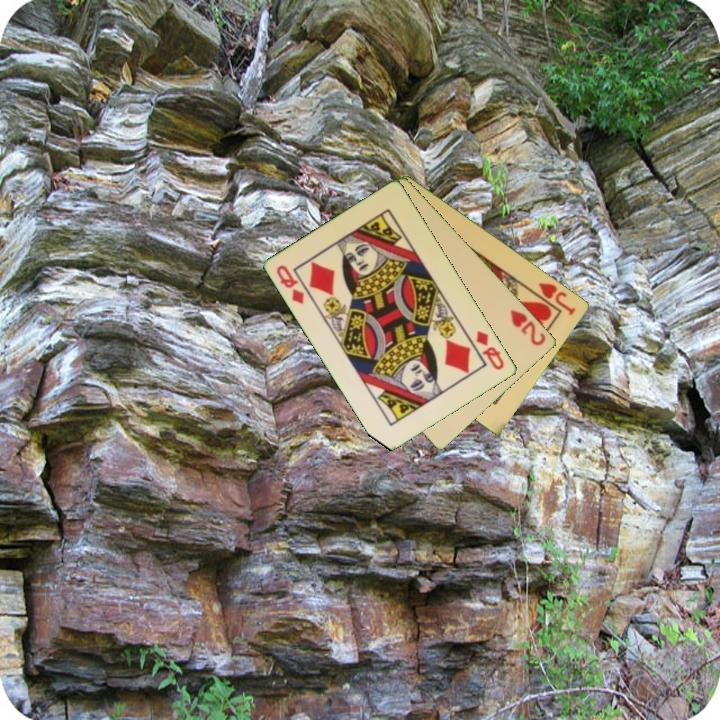2h: (507, 306, 549, 349)
Jh: (535, 279, 579, 318)
Qd: (473, 327, 508, 373), (273, 261, 308, 307)
